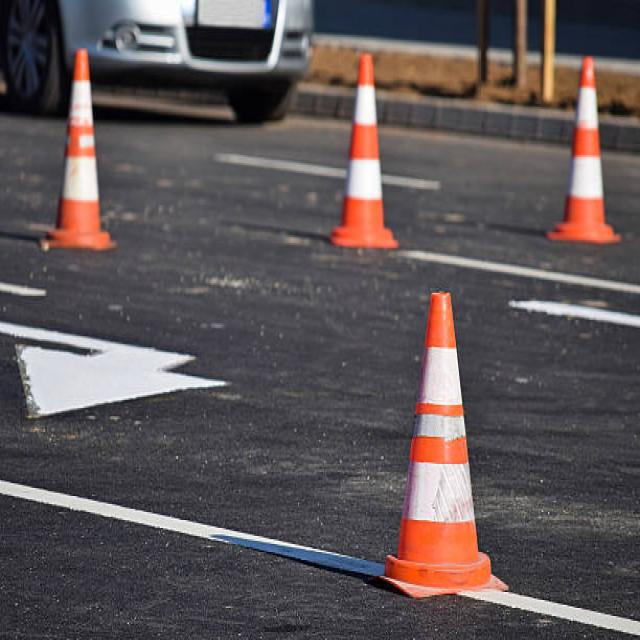Traffic Cone: (366, 272, 523, 619), (34, 28, 126, 262), (323, 28, 410, 266), (542, 39, 628, 261)
